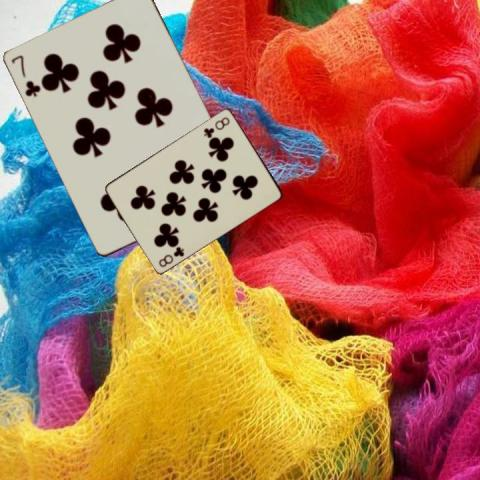7c: (8, 52, 42, 99)
8c: (201, 113, 231, 139), (156, 243, 186, 269)
